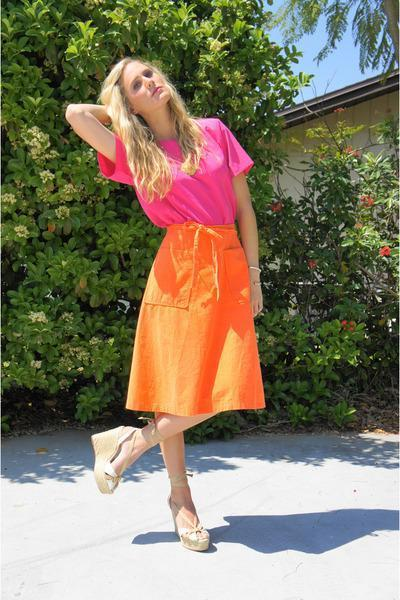short sleeve shirt: (93, 116, 255, 233)
skirt: (122, 226, 267, 419)
